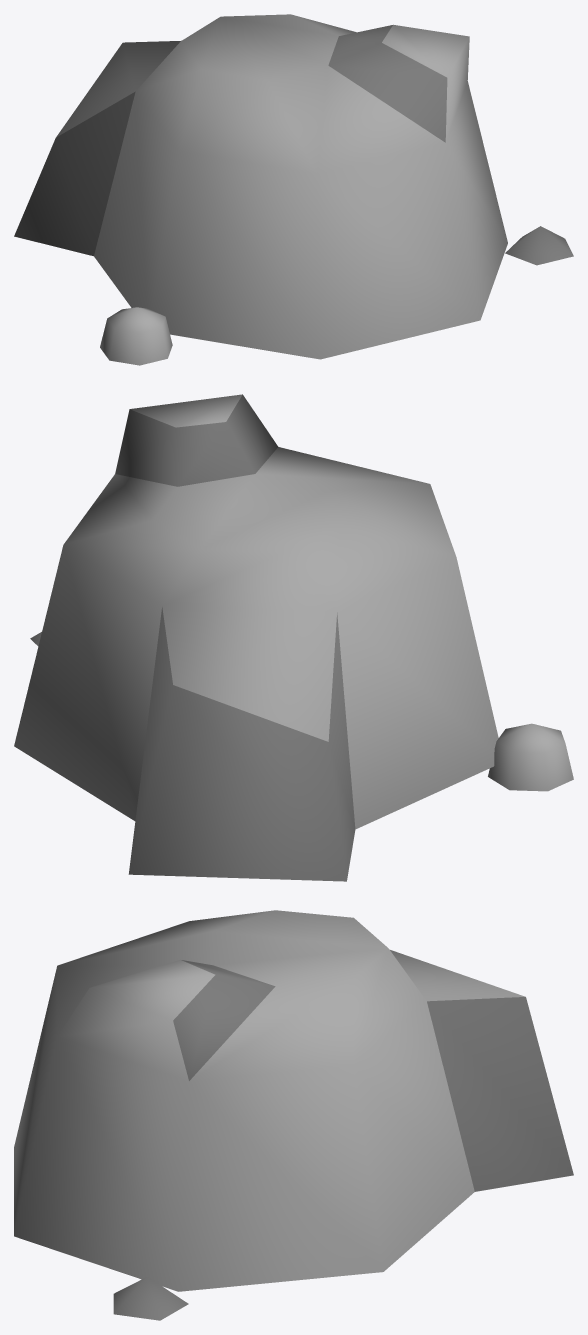
File: Rock.FBX
3 views of the same model, one above another, from view 1: azimuth 30°, elevation 25°; view 2: azimuth 150°, elevation 25°; view 3: azimuth 270°, elevation 25° (orthographic). The views are drawn at different scales.
Parts seen in each view (by area): view 1: Sphere01; view 2: Sphere01; view 3: Sphere01.
Boxes of the visible parts, bbox=[...] form: Sphere01: bbox=[14, 14, 573, 365]; Sphere01: bbox=[14, 394, 573, 881]; Sphere01: bbox=[14, 910, 573, 1320].
Size of the model in its own units: 14.85 by 7.47 by 13.83.
Materials: 1 (1 with a texture image).
